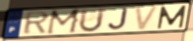J: (107, 7, 129, 32)
M: (45, 8, 83, 36), (157, 4, 189, 30)
R: (23, 11, 51, 36)
U: (78, 7, 107, 34)
V: (133, 5, 161, 32)
